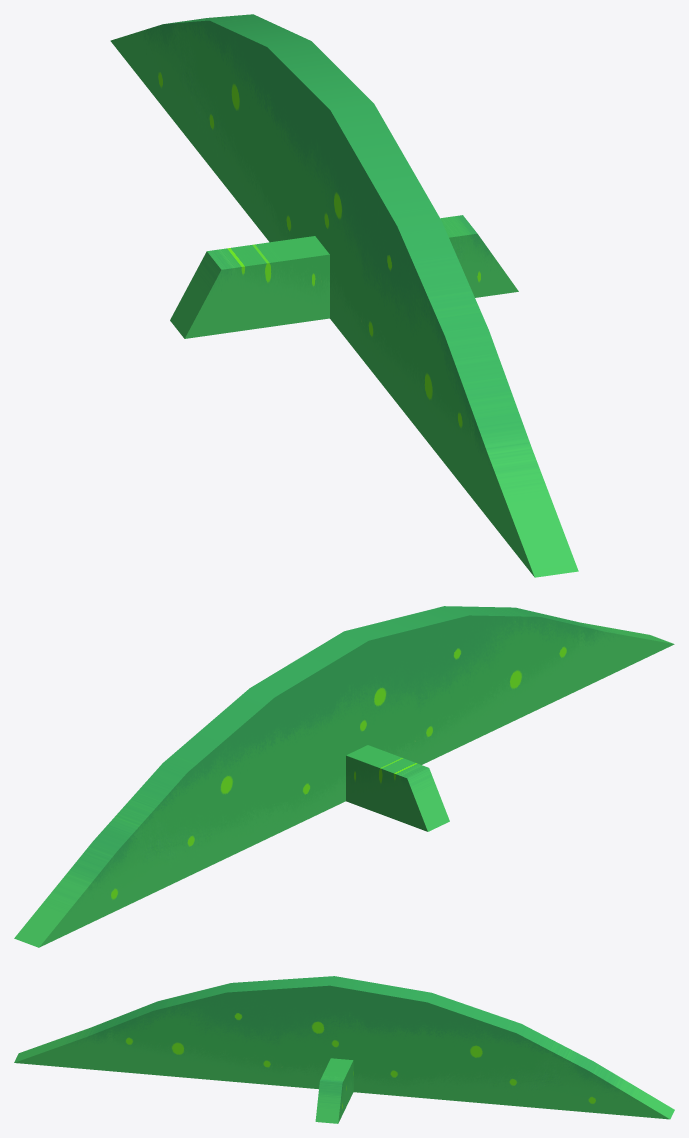
The model's file is Hill.fbx.
3 renders of one model, top to bottom at view 1: azimuth 30°, elevation 25°; view 2: azimuth 150°, elevation 25°; view 3: azimuth 270°, elevation 25°, orthographic. The views are drawn at different scales.
Visible parts, largest first — view 1: Hill; view 2: Hill; view 3: Hill.
Part boxes in pixels (x1=…): Hill: x1=110, y1=14, x2=578, y2=577; Hill: x1=14, y1=606, x2=674, y2=947; Hill: x1=14, y1=976, x2=674, y2=1123.
Bounding box in the file's own units: 33.67 × 21.88 × 125.
